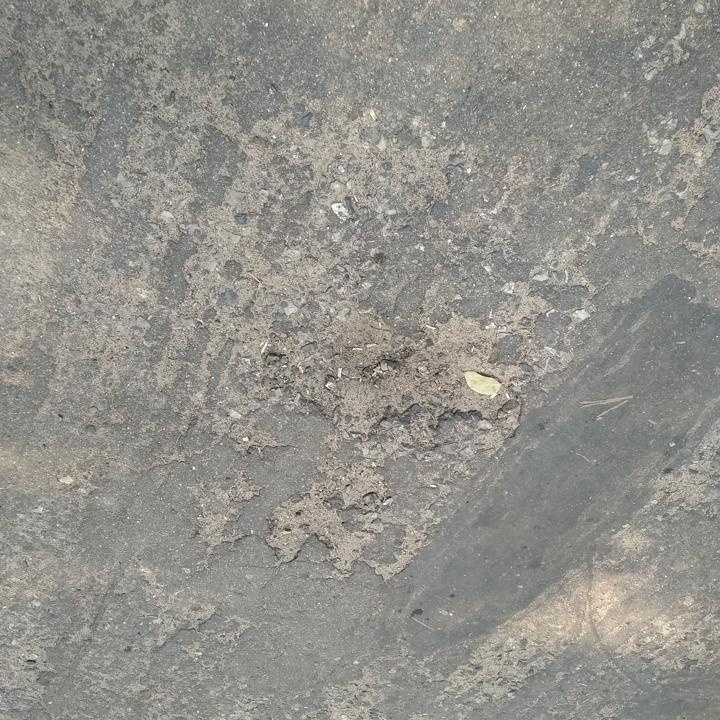pothole: (283, 306, 533, 448), (261, 462, 422, 579)
